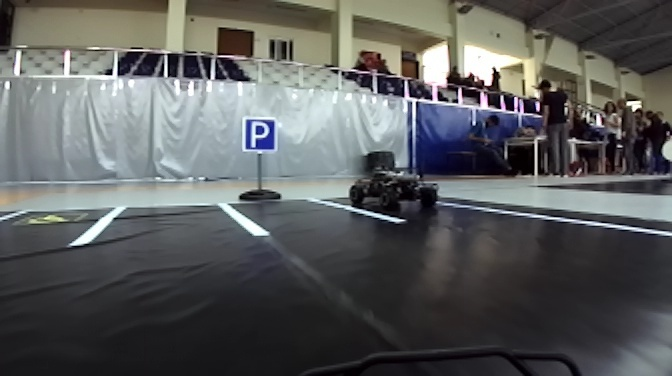park: (239, 113, 283, 156)
